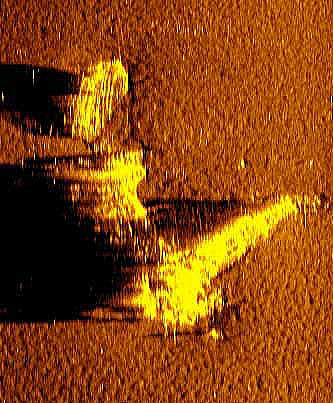aircraft: (29, 60, 321, 345)
